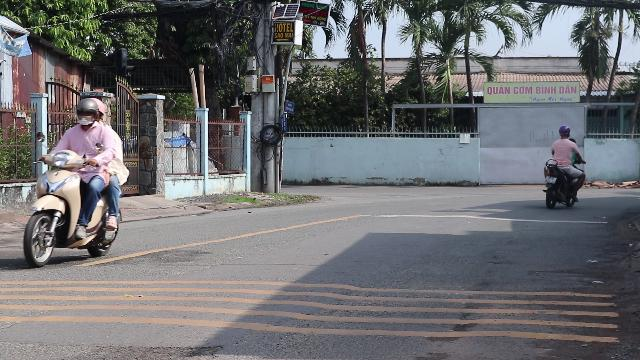helmet: (74, 96, 102, 126)
motorcyclist: (20, 95, 130, 268)
